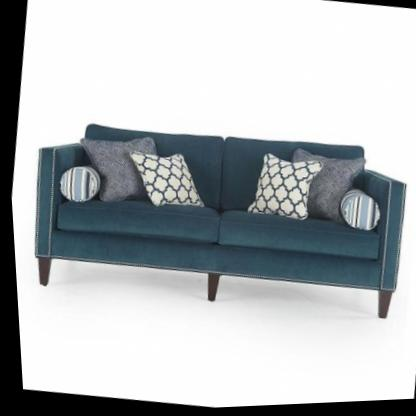Sofa: (15, 104, 413, 335)
